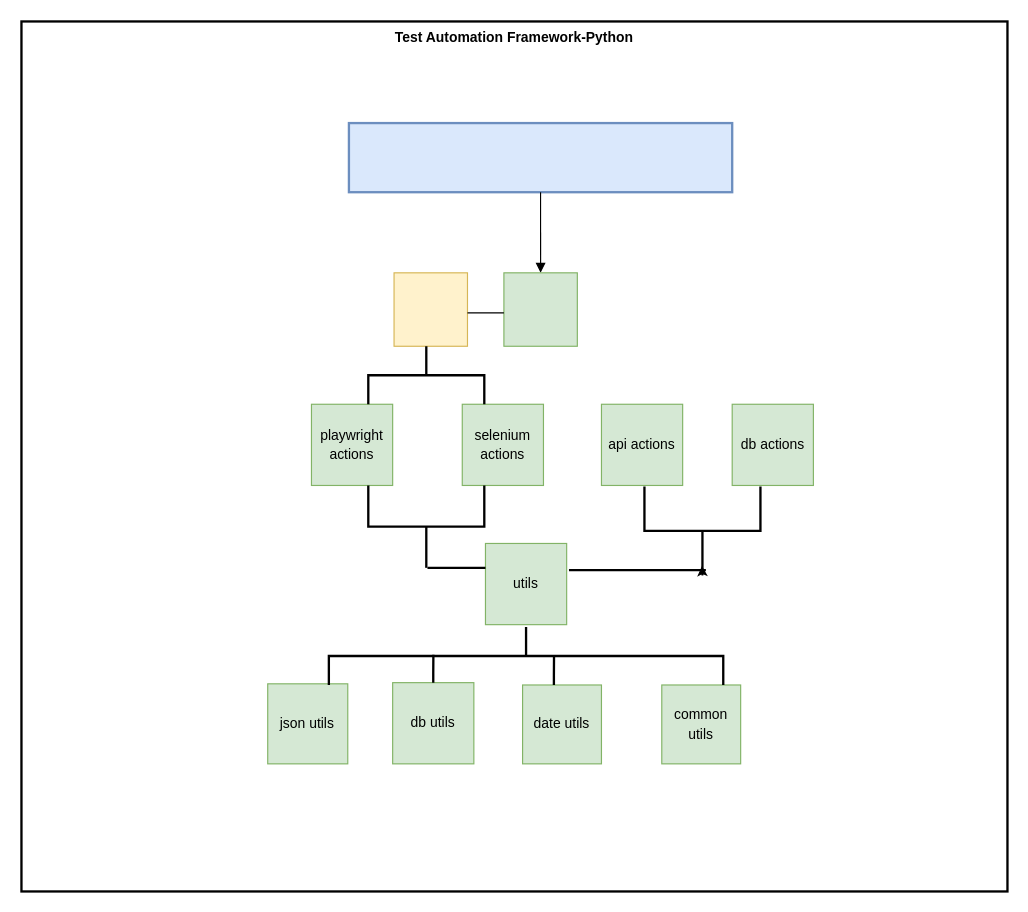
Some shapes in this 1028 by 912 pixel diagram are drawn without their labels. Each missing label, with the box of its shape:
Browser Factory: (503, 272, 577, 346)
Framework: (347, 121, 733, 193)
IWeb: (393, 272, 467, 346)
